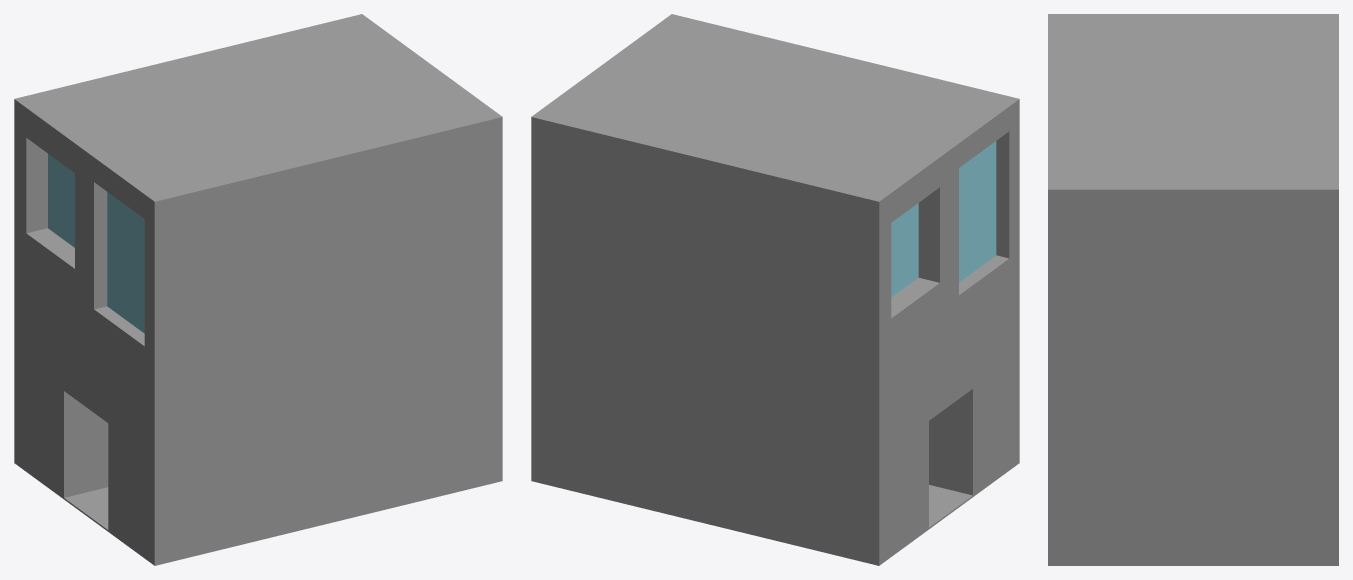
File: MediumBuilding.fbx
3 views of the same model, side by side, from view 1: azimuth 30°, elevation 25°; view 2: azimuth 150°, elevation 25°; view 3: azimuth 270°, elevation 25° (orthographic). The views are drawn at different scales.
Parts seen in each view (by area): view 1: MediumBuilding; view 2: MediumBuilding; view 3: MediumBuilding.
Part boxes in pixels (x1,y1,x2,y2): MediumBuilding: (14, 14, 502, 565); MediumBuilding: (531, 14, 1019, 565); MediumBuilding: (1048, 14, 1338, 565).
Bounding box in the file's own units: 1400 × 1400 × 980.
